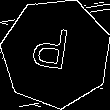P_S: (35, 26, 77, 81)
